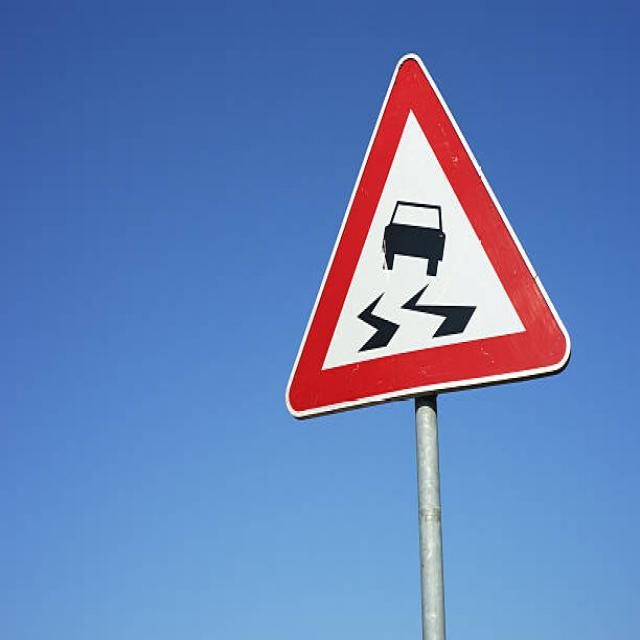road_slippery: (280, 54, 575, 426)
